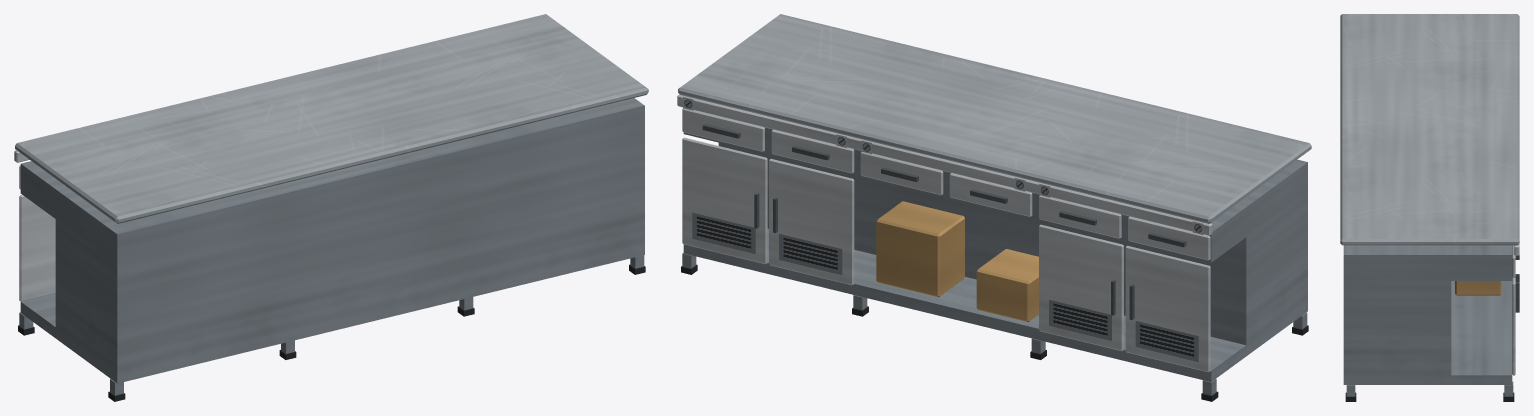
The model's file is counter_3m.glb.
3 renders of one model, left to right at view 1: azimuth 30°, elevation 25°; view 2: azimuth 150°, elevation 25°; view 3: azimuth 270°, elevation 25°, orthographic. The views are drawn at different scales.
Parts seen in each view (by area): view 1: counter_3m_body; view 2: counter_3m_body; view 3: counter_3m_body.
Boxes of the visible parts, x1,y1,x2,y2 form: counter_3m_body: [14, 14, 648, 401]; counter_3m_body: [677, 14, 1311, 401]; counter_3m_body: [1340, 14, 1519, 401].
Bounding box in the file's own units: 2.99 × 1 × 1.
7 materials, 6 textured.
